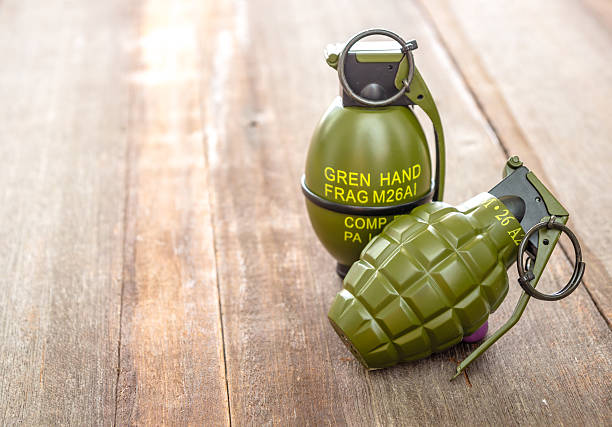e1: (339, 196, 590, 378), (302, 29, 448, 255)
